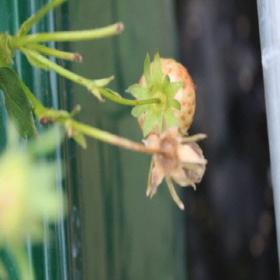Gray Mold: (117, 126, 209, 211)
